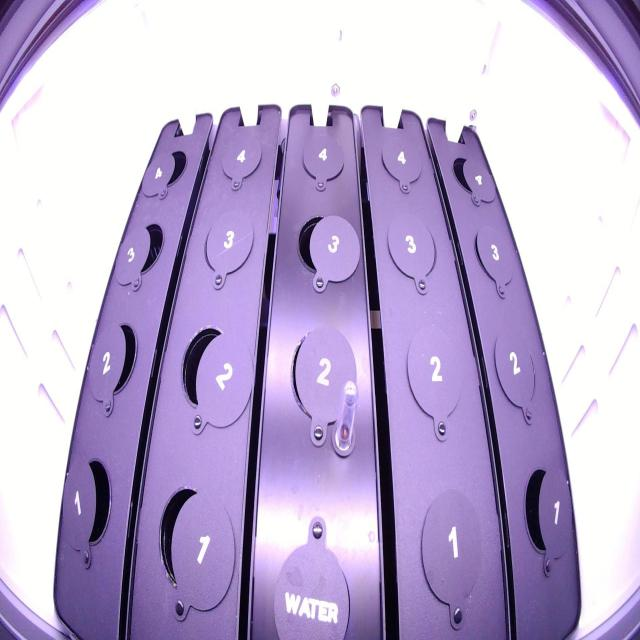empty_pod: (415, 481, 486, 628), (401, 312, 469, 448), (288, 315, 361, 426), (152, 480, 210, 594), (177, 314, 233, 428), (202, 200, 258, 296), (518, 463, 568, 566), (384, 205, 440, 296), (492, 326, 542, 421), (71, 452, 116, 548), (294, 207, 350, 283), (470, 219, 519, 300), (96, 319, 140, 402), (377, 126, 425, 194), (299, 126, 347, 193), (219, 120, 263, 193), (125, 216, 165, 284), (448, 147, 489, 205), (147, 144, 188, 194)
